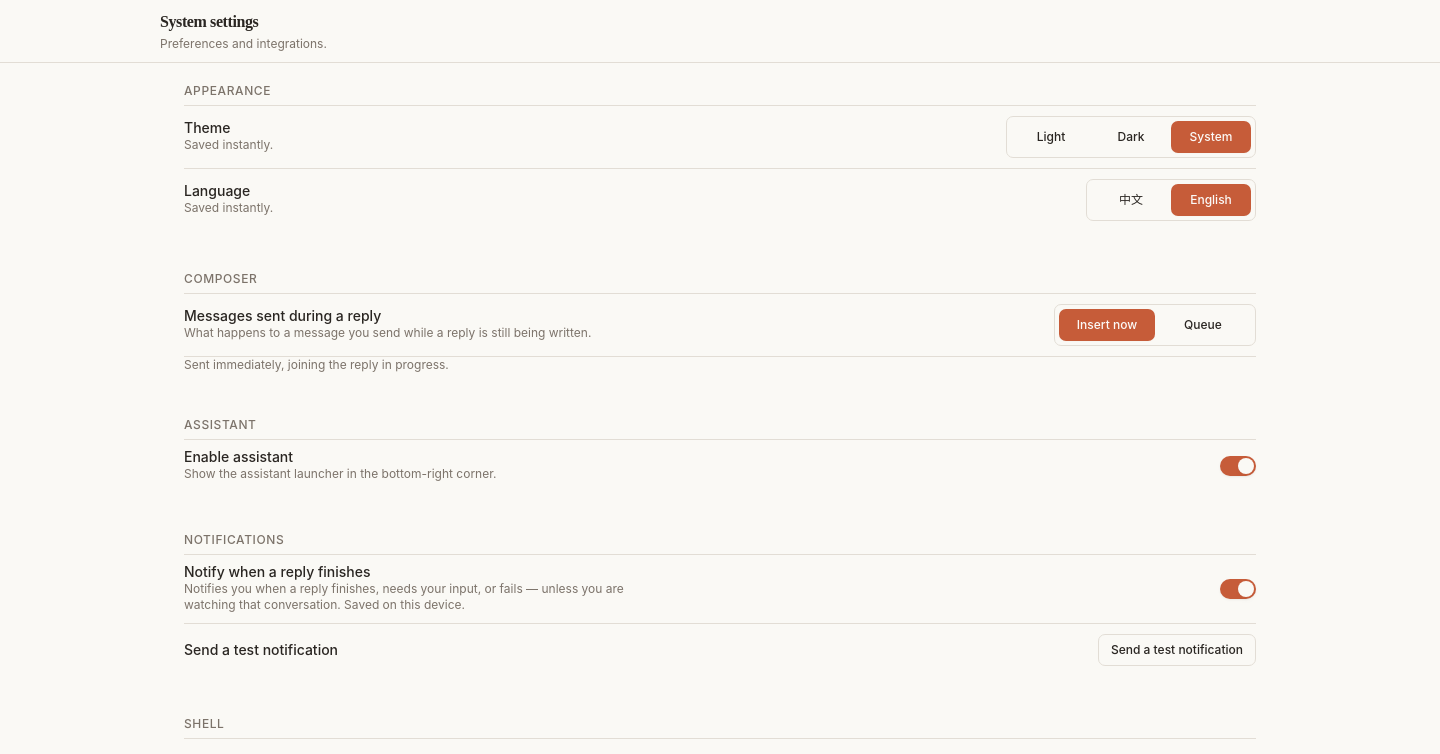
Test case: SystemSettingsPage preferences › changes language optimistically and rolls back after a failed save
The width and height of the screenshot is (1440, 754).
expect the heading "System settings" is shown: met, box [160,13,258,30]
What coordinates should you click on to do the following:
click the radio button labelled "中文"
I would click on:
 (1131, 200)
Its box is [1091,184,1171,216].
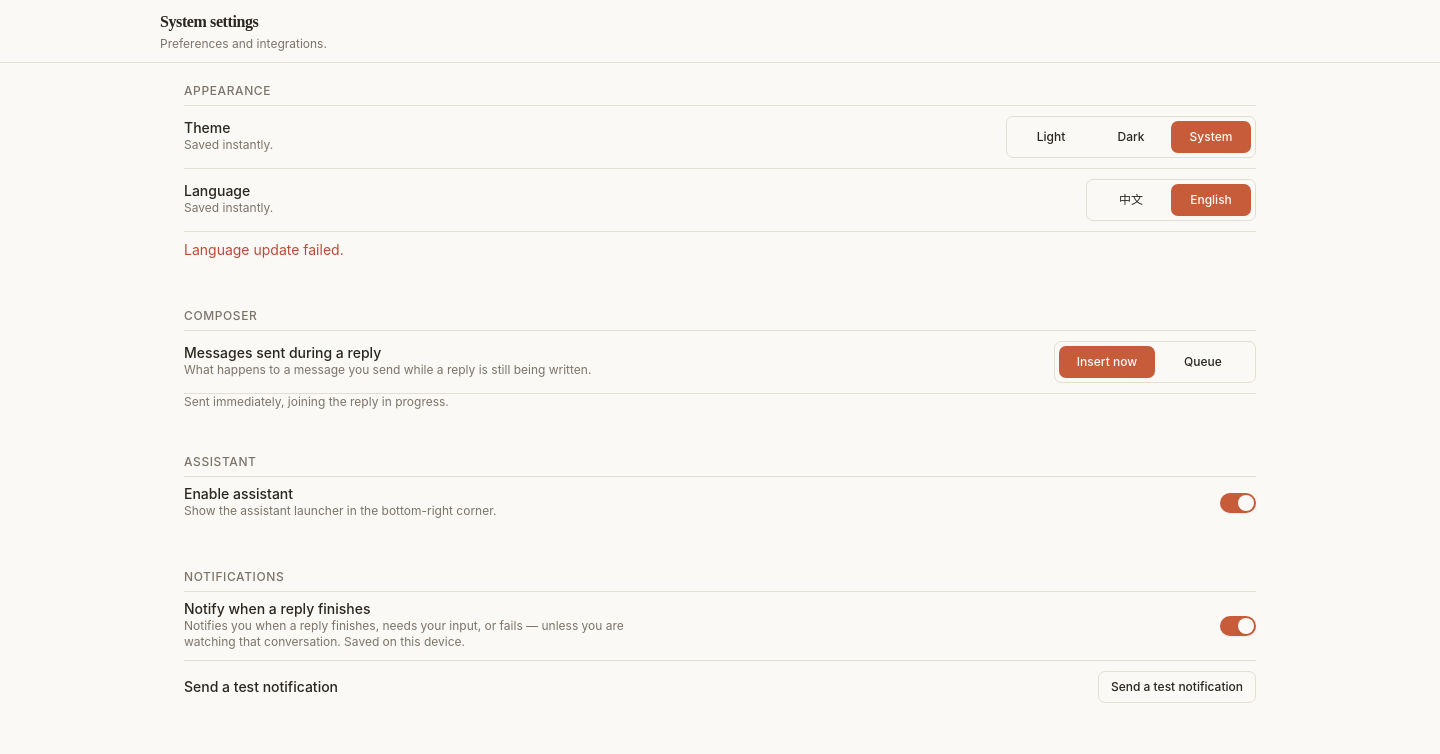
expect the heading named "系统设置" is shown: met, box [160,13,258,30]
expect the message reads "Language update failed.": met, box [184,241,344,258]
